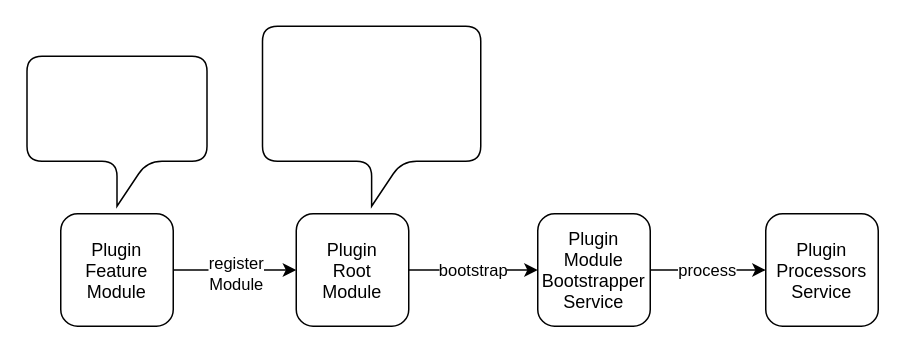
This 905x353 diagram has some shape labels left out. The centre of each missing label's shape, as x and y in pixels:
The plugin root module then "connects" the feature module to the core: [371,115]
When a feature module is loaded, it registers itself: [116,130]
